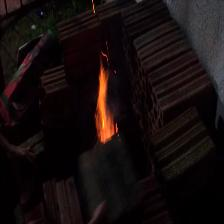fire: (94, 69, 117, 138)
